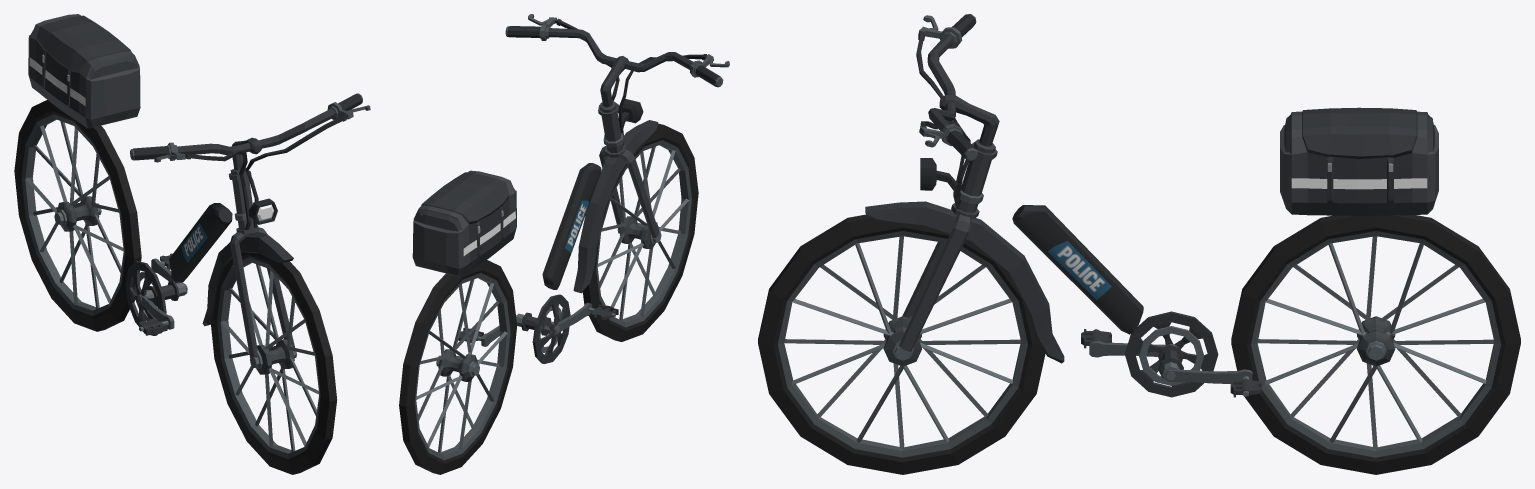
Rendered from SM_Veh_Bike_01.fbx.
3 views of the same model, side by side, from view 1: azimuth 30°, elevation 25°; view 2: azimuth 150°, elevation 25°; view 3: azimuth 270°, elevation 25° (orthographic). The views are drawn at different scales.
Parts seen in each view (by area): view 1: SM_Veh_Bike_01, SM_Veh_Bike_01_Front_Wheel_01; view 2: SM_Veh_Bike_01, SM_Veh_Bike_01_Front_Wheel_01; view 3: SM_Veh_Bike_01, SM_Veh_Bike_01_Front_Wheel_01.
Part boxes in pixels (<box>): SM_Veh_Bike_01: <box>14,14,370,363</box>; SM_Veh_Bike_01_Front_Wheel_01: <box>210,252,337,474</box>; SM_Veh_Bike_01: <box>399,14,729,474</box>; SM_Veh_Bike_01_Front_Wheel_01: <box>583,123,698,341</box>; SM_Veh_Bike_01: <box>865,14,1520,474</box>; SM_Veh_Bike_01_Front_Wheel_01: <box>758,214,1045,474</box>.
Size of the model in its own units: 79.61 by 108 by 188.
1 material, 1 textured.
